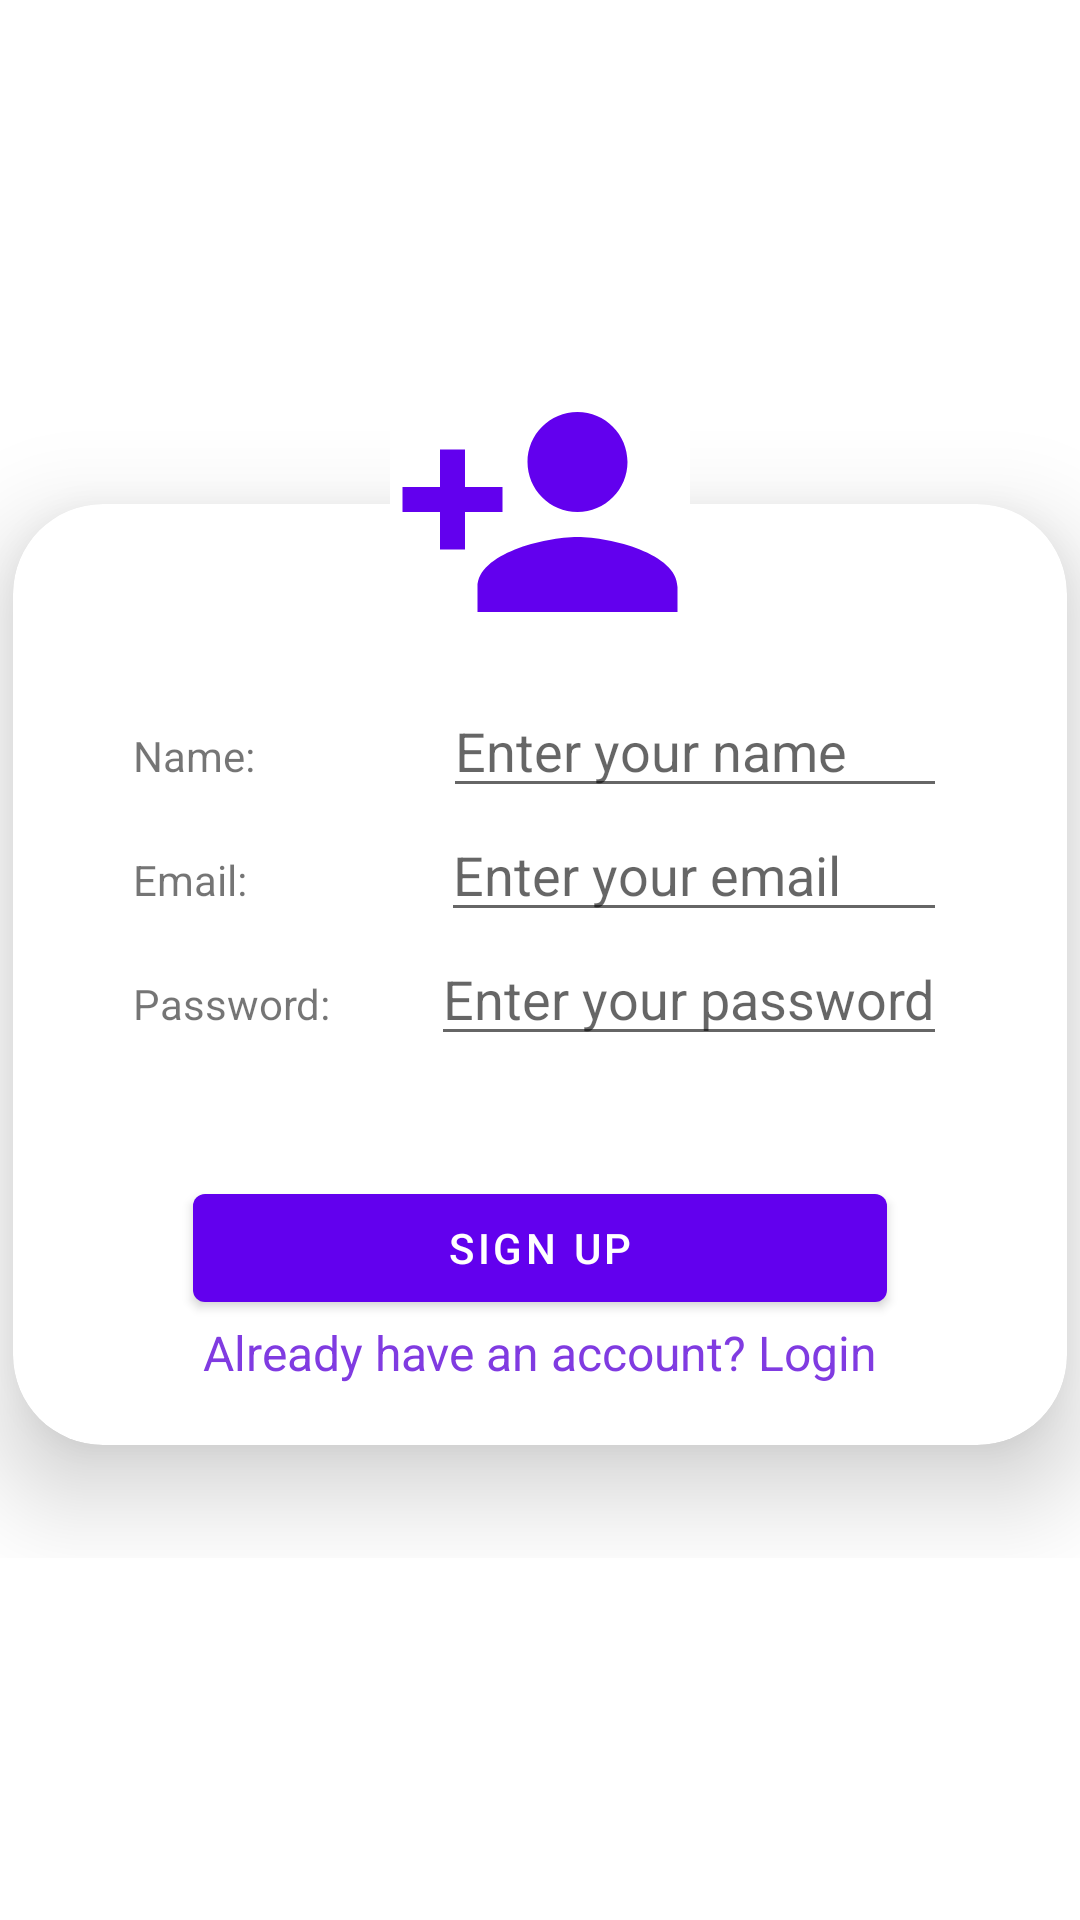

Locate icon controls on the screen. Image size 1080px x 1920px, boxes as {"x1": x1, "y1": y1, "x2": x2, "y2": y2}.
person add: {"x1": 402, "y1": 412, "x2": 678, "y2": 612}
